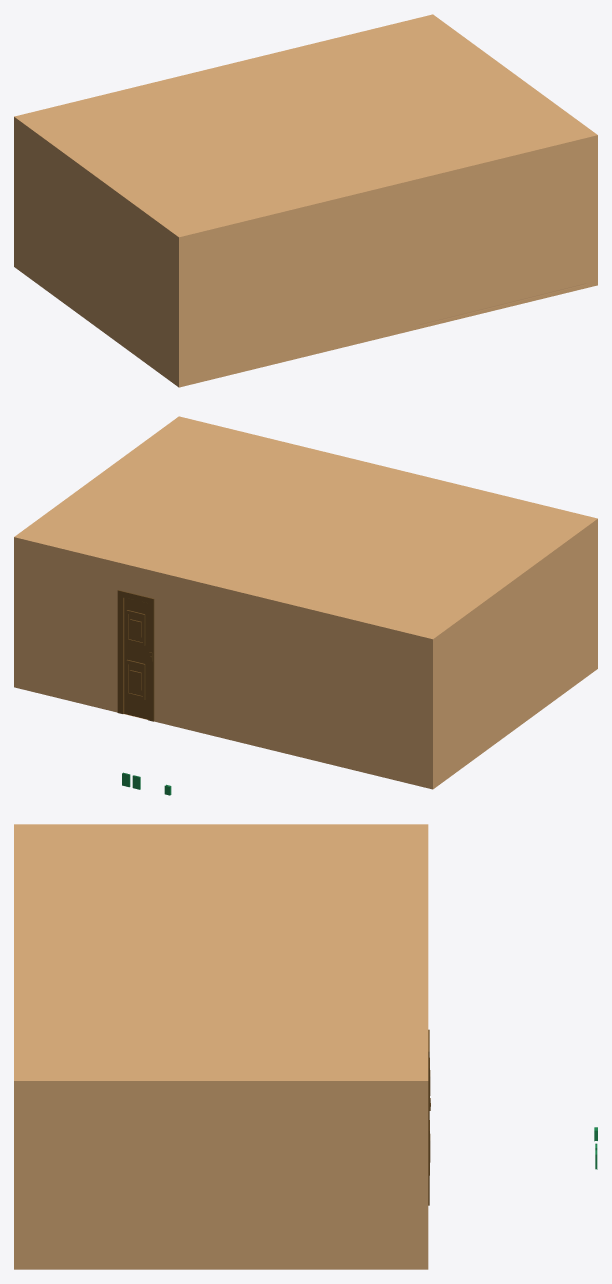
Rendered from SM_Laboratory.glb.
The picture shows the model from 3 angles, top to bottom: view 1: azimuth 30°, elevation 25°; view 2: azimuth 150°, elevation 25°; view 3: azimuth 270°, elevation 25°; orthographic projection. The views are drawn at different scales.
Parts seen in each view (by area): view 1: murSansFenetre.001, plafond.001; view 2: murSansFenetre.001, plafond.001, S_Door; view 3: plafond.001, murSansFenetre.001.
Part boxes in pixels (x1,y1,x2,y2): murSansFenetre.001: (14, 14, 597, 387); plafond.001: (24, 17, 587, 232); murSansFenetre.001: (14, 416, 597, 789); plafond.001: (18, 421, 586, 634); S_Door: (117, 590, 154, 721); plafond.001: (24, 828, 418, 1080); murSansFenetre.001: (14, 824, 428, 1269).
Size of the model in its own units: 7.72 by 2.75 by 7.42.
